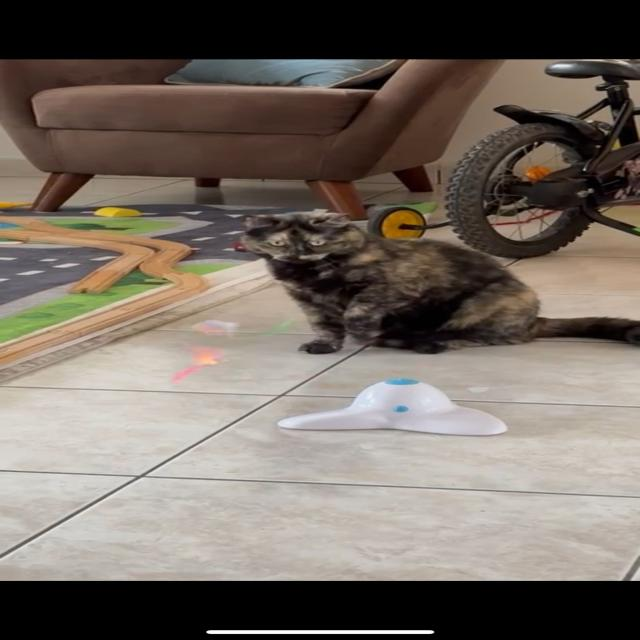authorized: (237, 208, 638, 355)
